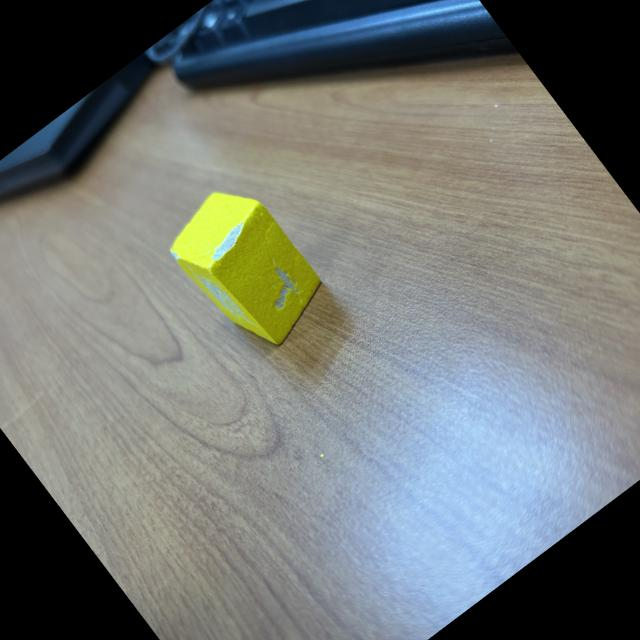broken: (156, 170, 340, 366)
